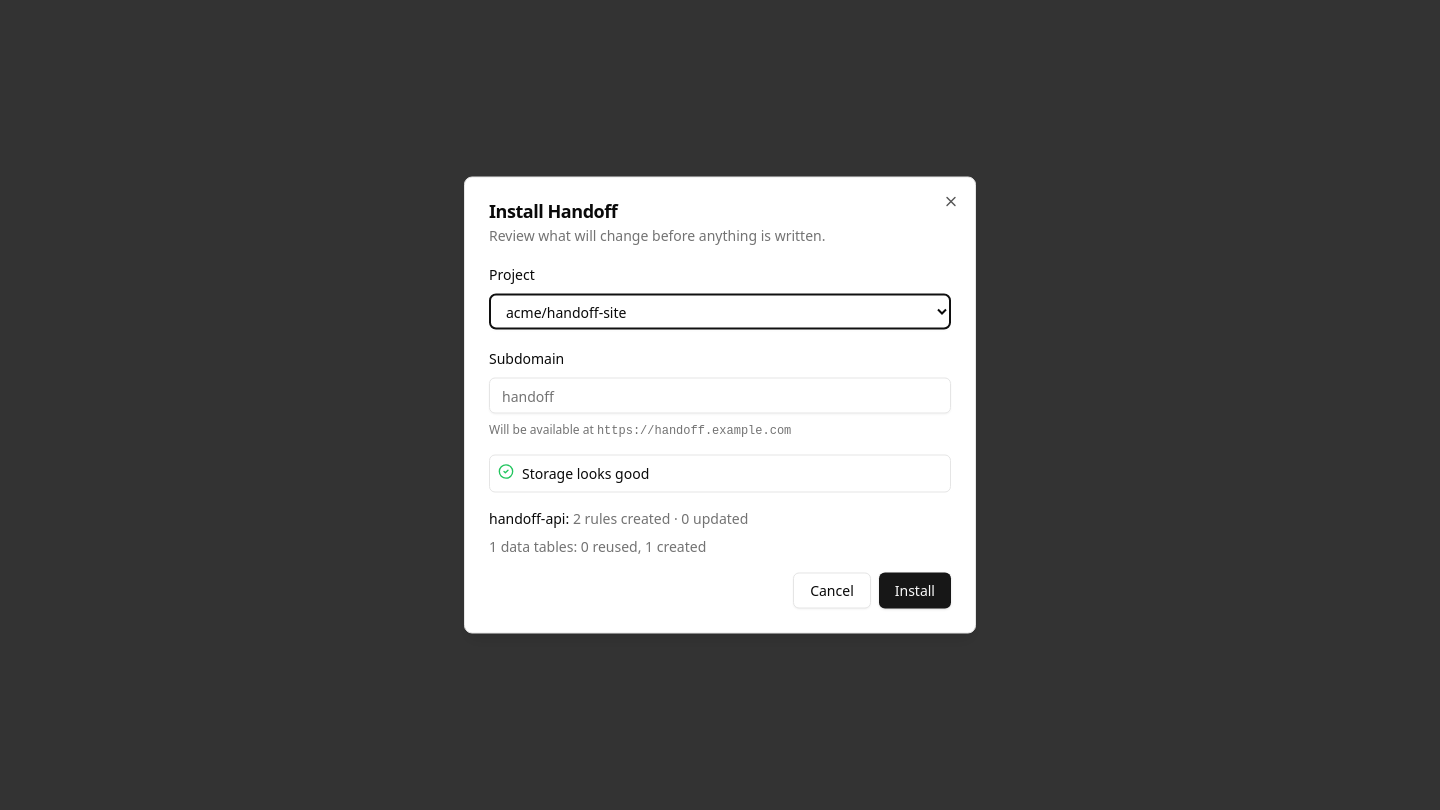
Test: InstallDialog — Done screen › renders the app URL, an Open link, and the setup notes expanded
The width and height of the screenshot is (1440, 810).
Click the button "Install". click: {"x": 915, "y": 590}
box: [879, 572, 951, 608]
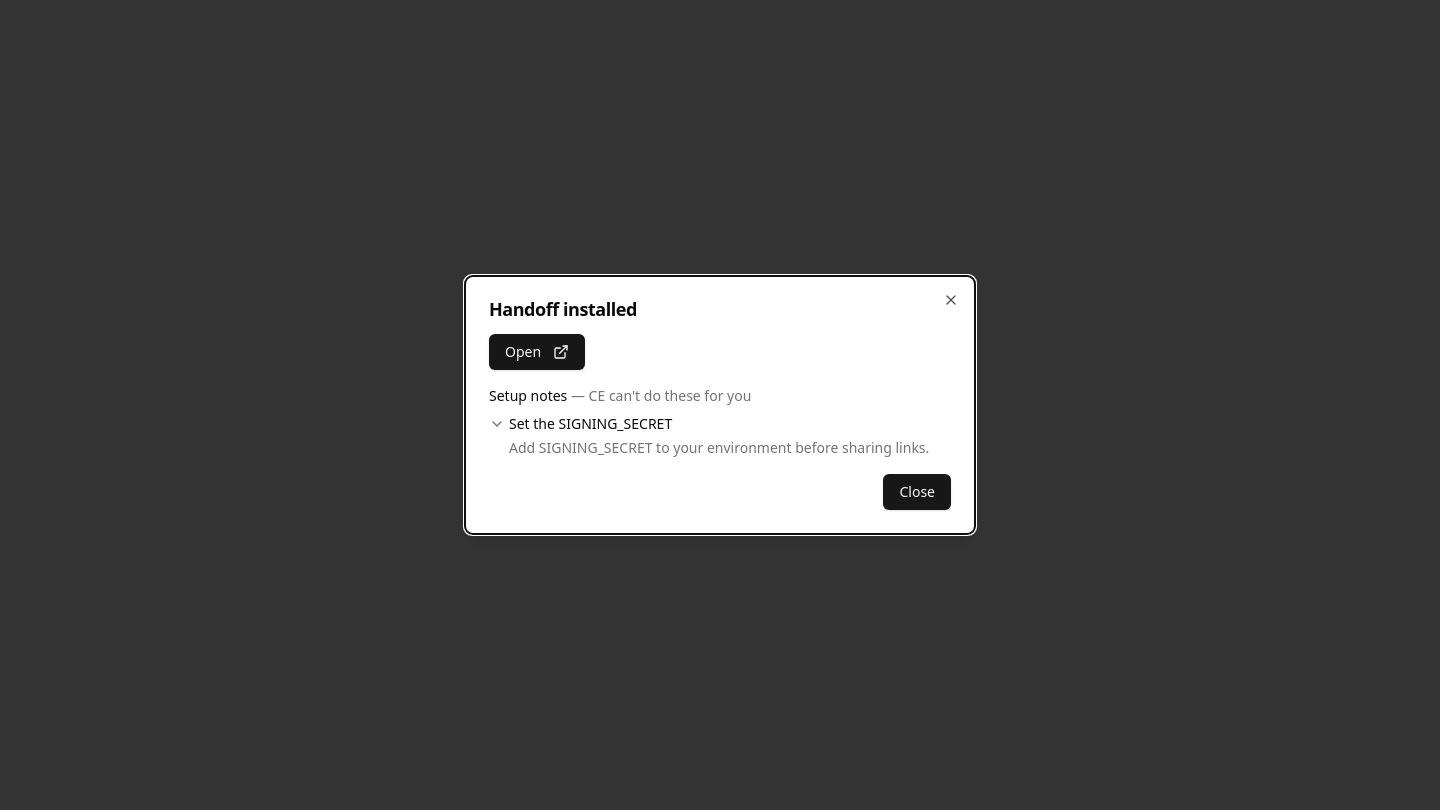
Now the text "Set the SIGNING_SECRET" is shown, box [509, 414, 672, 434]
Now the text "Add SIGNING_SECRET to your environment before sharing links." is shown, box [509, 438, 951, 458]
